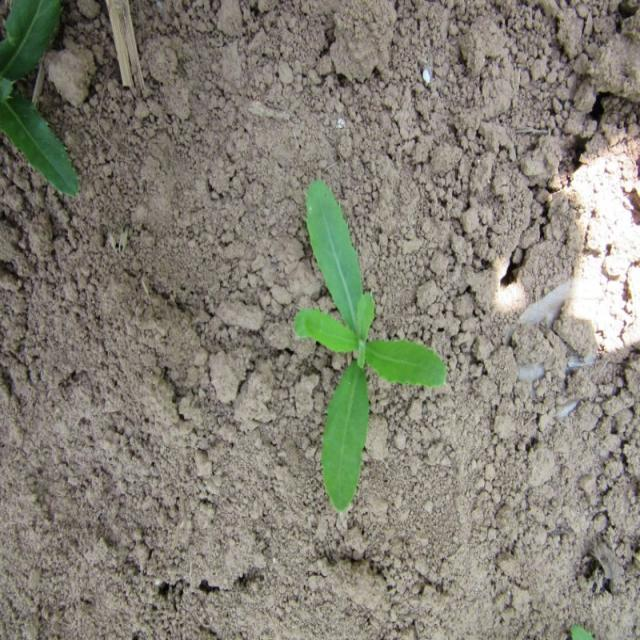field_thistle: (274, 179, 458, 498)
